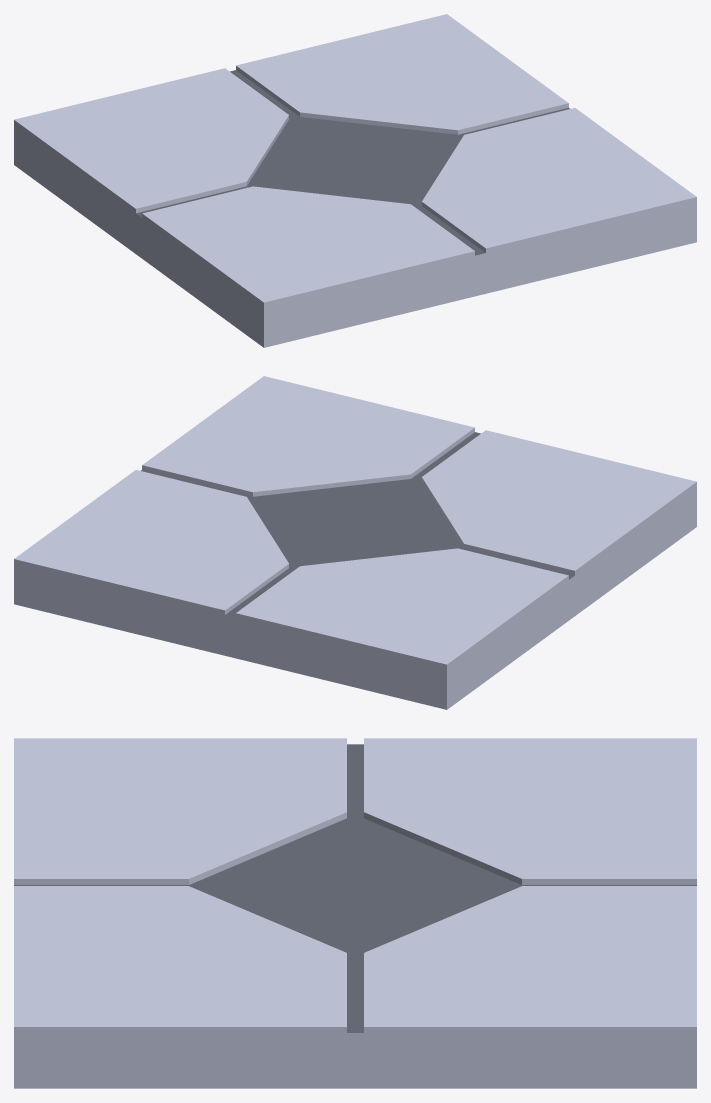
File: stage4_tile.fbx
The picture shows the model from 3 angles, top to bottom: view 1: azimuth 30°, elevation 25°; view 2: azimuth 150°, elevation 25°; view 3: azimuth 270°, elevation 25°; orthographic projection. The views are drawn at different scales.
Visible parts, largest first — view 1: tile; view 2: tile; view 3: tile.
Boxes of the visible parts, x1=… form: tile: x1=14, y1=14, x2=696, y2=347; tile: x1=14, y1=376, x2=696, y2=709; tile: x1=14, y1=738, x2=696, y2=1088.
Size of the model in its own units: 300 by 30 by 300.
